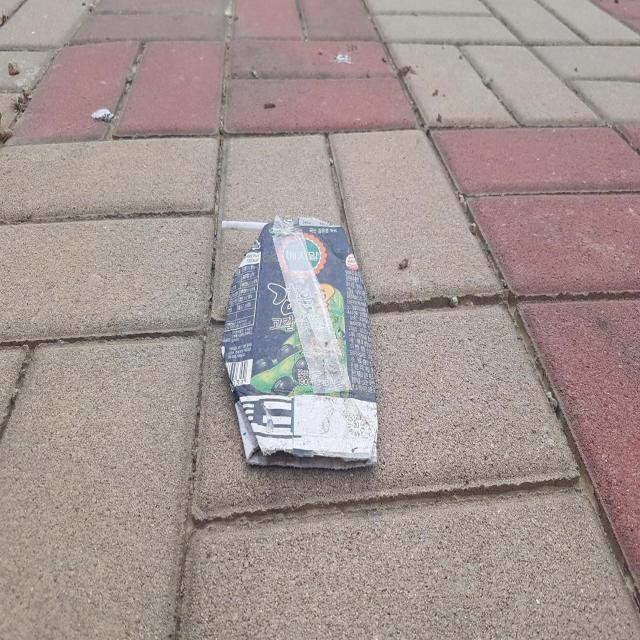paperpack: (221, 216, 378, 469)
